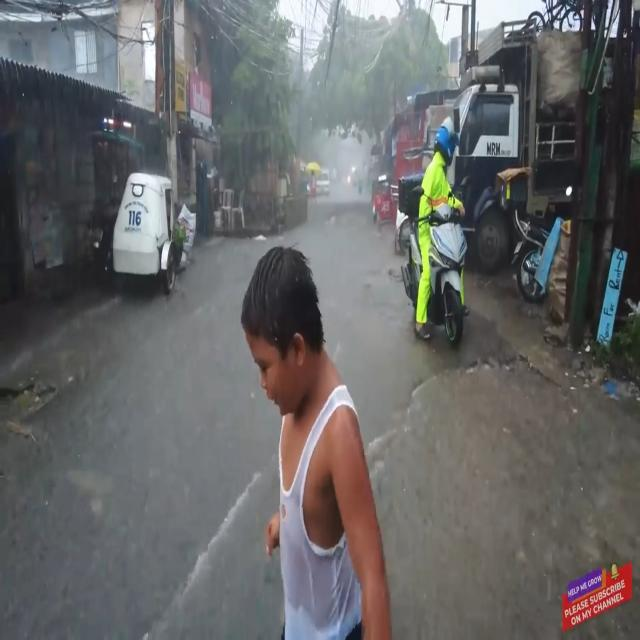half: (434, 114, 461, 168)
